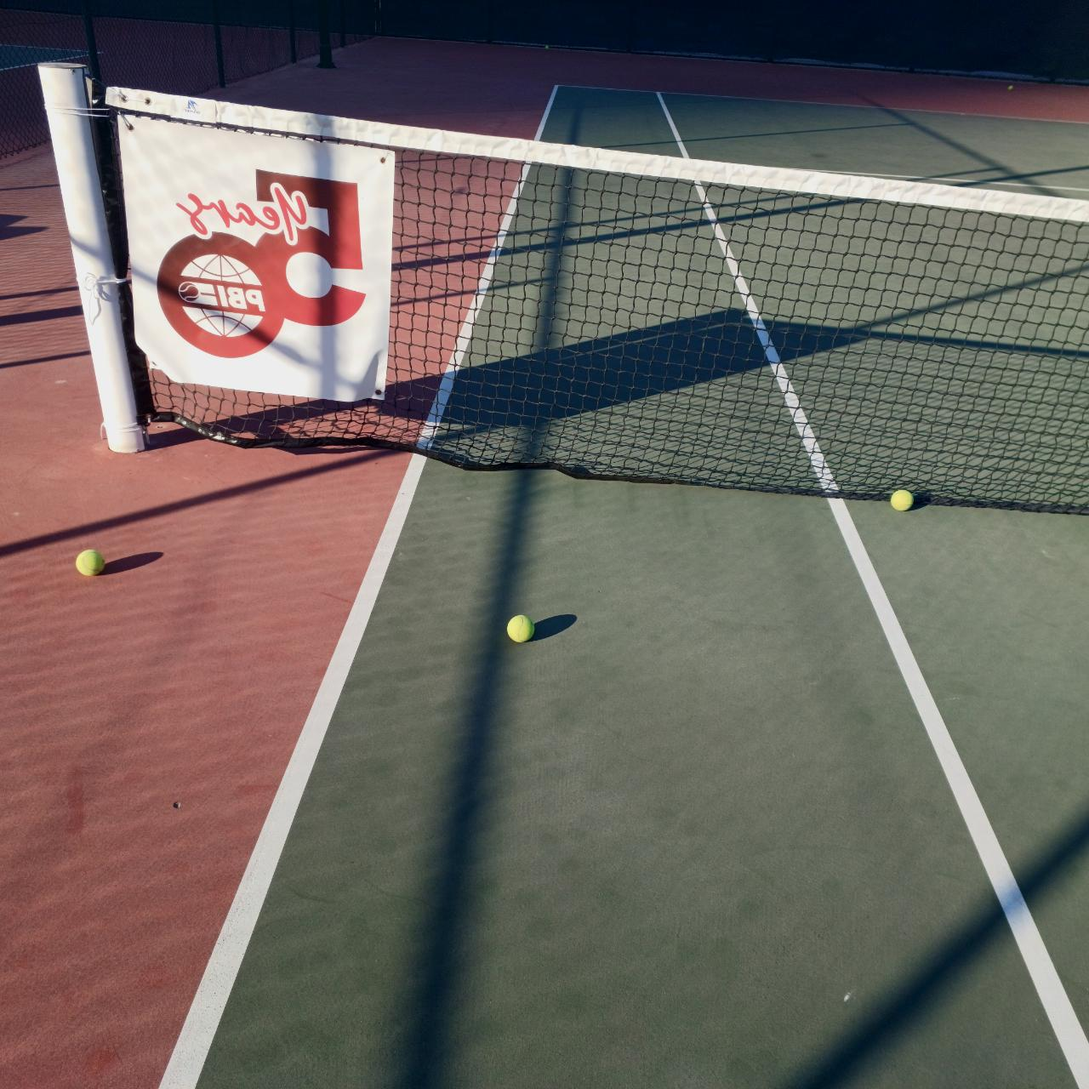tennis-ball: (506, 611, 536, 643), (76, 546, 106, 577), (890, 487, 915, 511)
